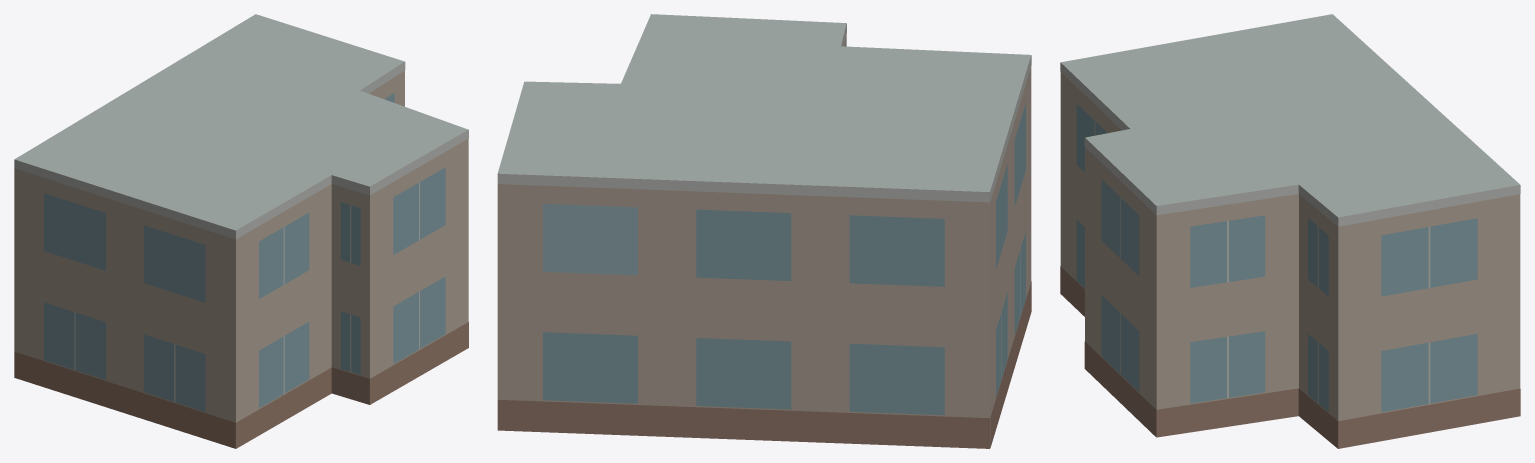
The model's file is survey-upis-32881076.glb.
3 views of the same model, side by side, from view 1: azimuth 30°, elevation 25°; view 2: azimuth 150°, elevation 25°; view 3: azimuth 270°, elevation 25° (orthographic). The views are drawn at different scales.
Visible parts, largest first — view 1: survey-upis-32881076.tmp; view 2: survey-upis-32881076.tmp; view 3: survey-upis-32881076.tmp.
Boxes of the visible parts, <box> form: survey-upis-32881076.tmp: <box>14,14,468,448</box>; survey-upis-32881076.tmp: <box>497,14,1031,448</box>; survey-upis-32881076.tmp: <box>1060,14,1520,448</box>.
Size of the model in its own units: 11.52 by 6.1 by 11.
